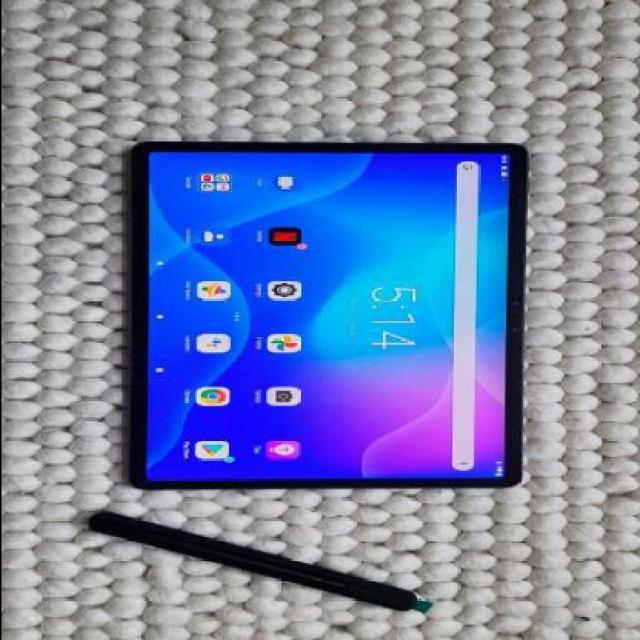tablet: (116, 68, 535, 506)
